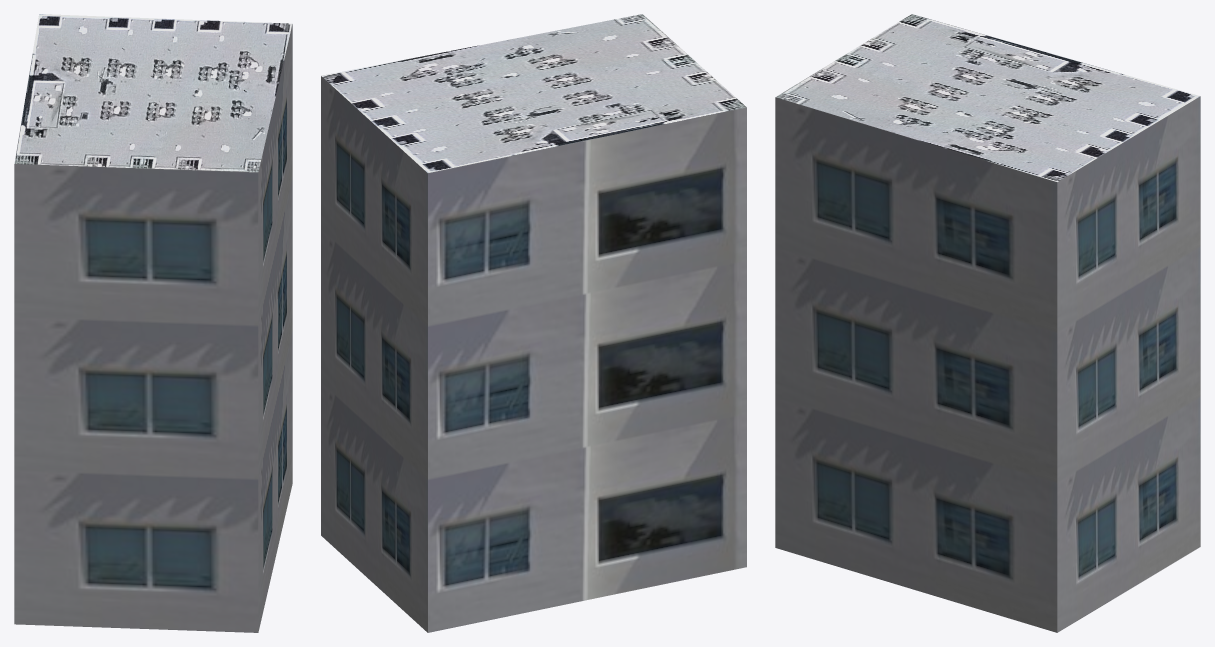
The model's file is ResTex__478.fbx.
The picture shows the model from 3 angles, left to right: view 1: azimuth 30°, elevation 25°; view 2: azimuth 150°, elevation 25°; view 3: azimuth 270°, elevation 25°; orthographic projection. The views are drawn at different scales.
Parts seen in each view (by area): view 1: CityEngineMaterial_10_m, CityEngineMaterial_m; view 2: CityEngineMaterial_10_m, CityEngineMaterial_m; view 3: CityEngineMaterial_10_m, CityEngineMaterial_m.
Boxes of the visible parts, x1=… form: CityEngineMaterial_10_m: x1=14, y1=24, x2=292, y2=632; CityEngineMaterial_m: x1=14, y1=14, x2=292, y2=172; CityEngineMaterial_10_m: x1=321, y1=76, x2=746, y2=632; CityEngineMaterial_m: x1=321, y1=14, x2=746, y2=172; CityEngineMaterial_10_m: x1=775, y1=96, x2=1200, y2=632; CityEngineMaterial_m: x1=775, y1=14, x2=1199, y2=181.
Bounding box in the file's own units: 7.21 × 9 × 7.69.
2 materials, 2 textured.
